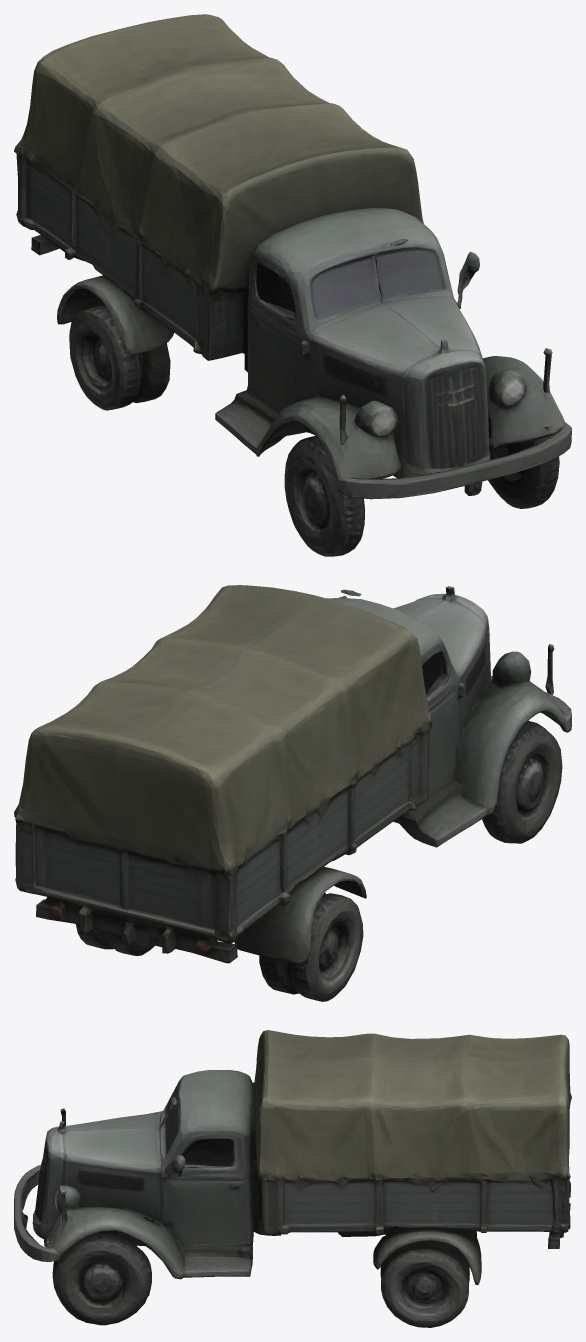
File: opel_blitz.glb
The picture shows the model from 3 angles, top to bottom: view 1: azimuth 30°, elevation 25°; view 2: azimuth 150°, elevation 25°; view 3: azimuth 270°, elevation 25°; orthographic projection. The views are drawn at different scales.
Visible parts, largest first — view 1: geometry_0; view 2: geometry_0; view 3: geometry_0.
Boxes of the visible parts, x1=… form: geometry_0: x1=14, y1=14, x2=571, y2=556; geometry_0: x1=14, y1=585, x2=571, y2=1001; geometry_0: x1=14, y1=1030, x2=571, y2=1327.
Size of the model in its own units: 0.3955 by 0.4555 by 0.9918.
1 material, 1 textured.
